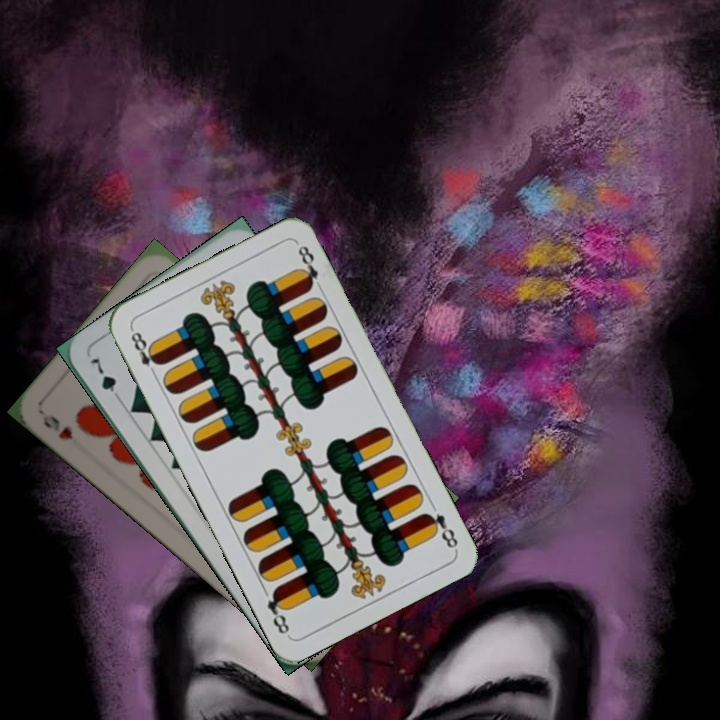E8: (126, 325, 164, 380), (420, 508, 461, 551)
G7: (85, 353, 125, 406)
H9: (38, 410, 76, 443)
